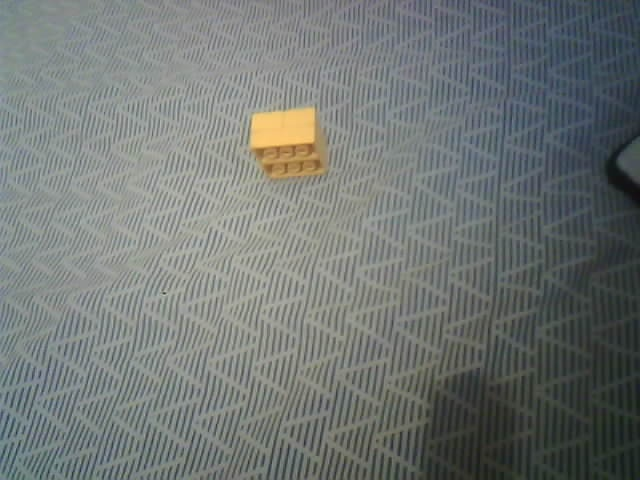lego: (248, 106, 330, 180)
